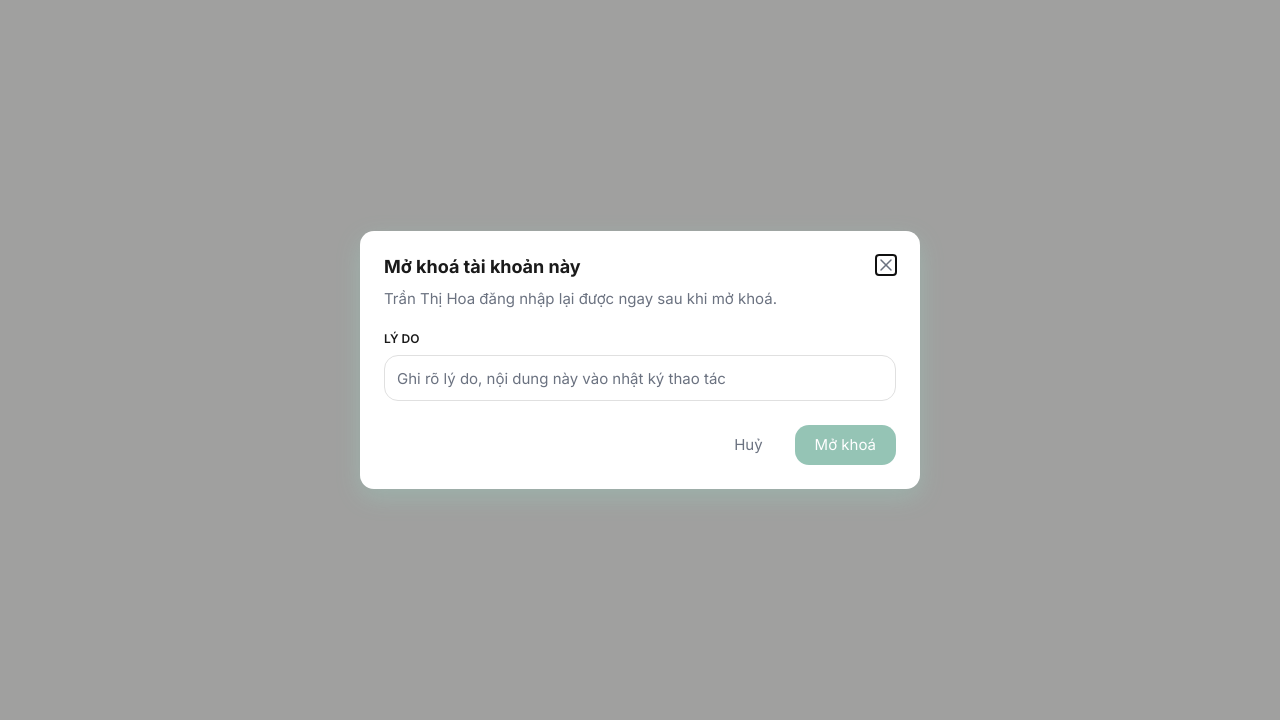
Scenario: LockUserDialog › mở khoá thì không hỏi số đơn vì không làm treo thêm đơn nào
This screenshot has width=1280, height=720.
Expected: the button "Mở khoá" is disabled, [795,425,896,465]
In the field: (640, 378) [384,355,896,401], type "Đã xác minh"
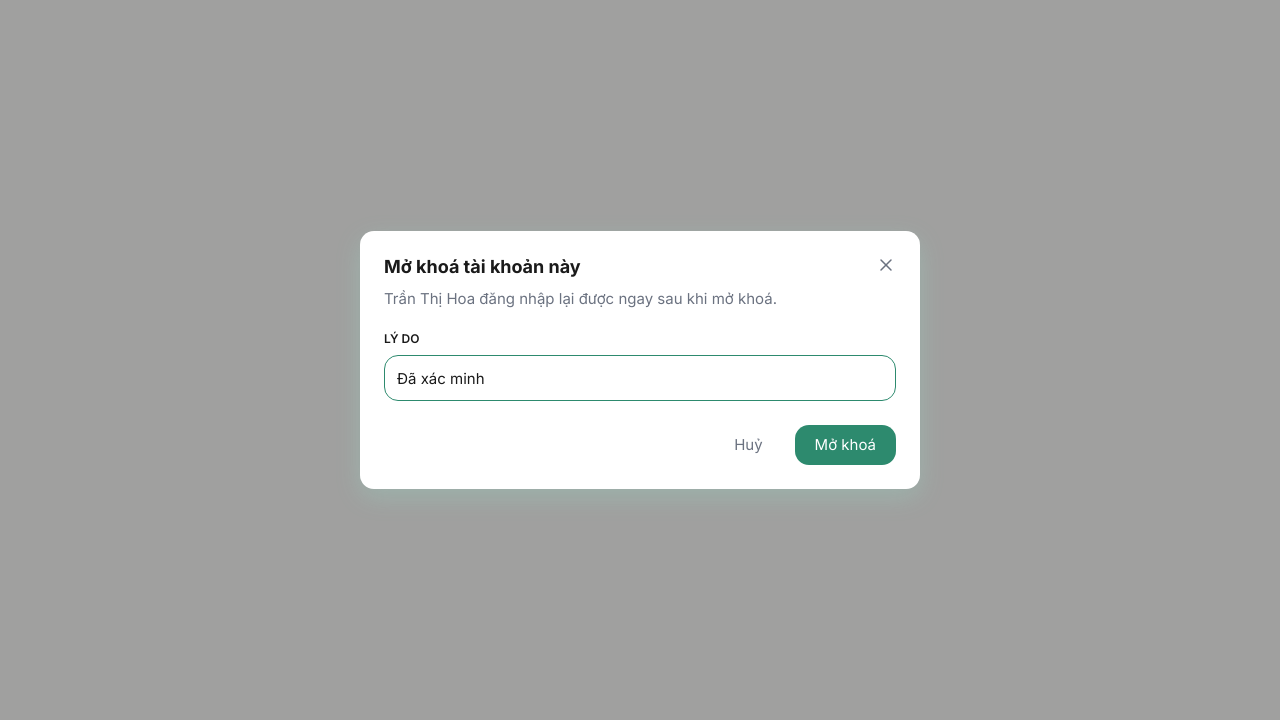
Expected: the button "Mở khoá" is enabled, [795,425,896,465]
